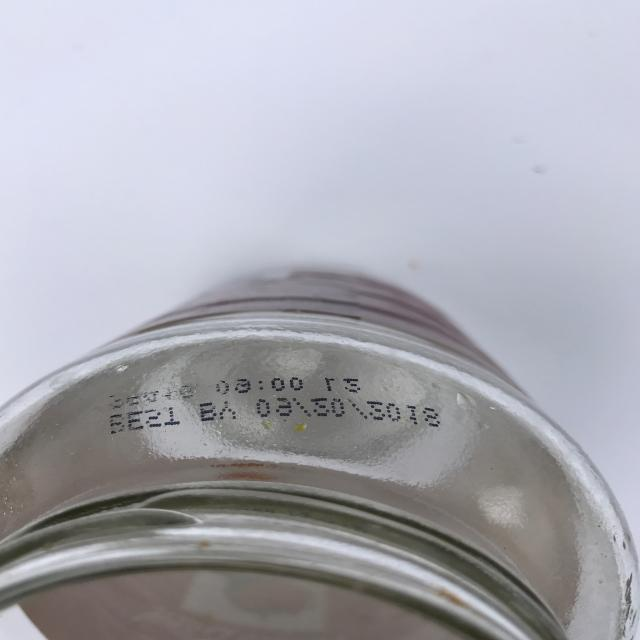glass: (0, 267, 640, 640)
